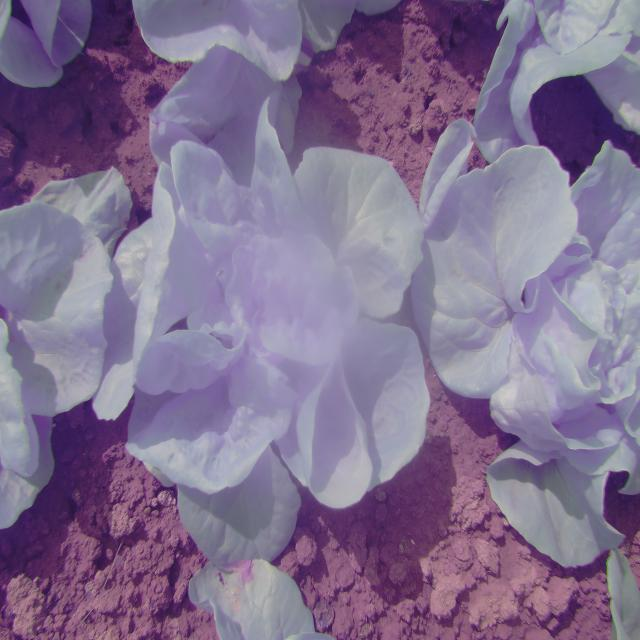vege: (120, 74, 430, 546)
